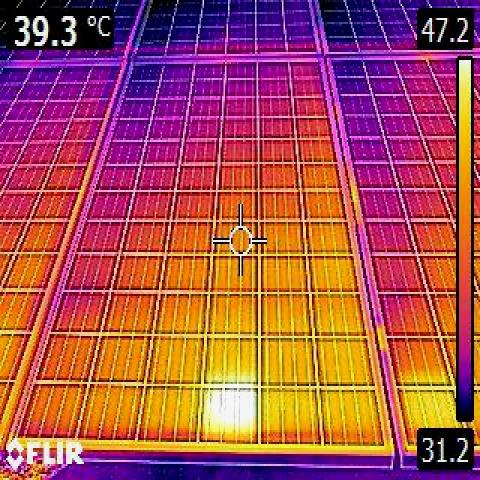fault: (203, 383, 253, 441)
